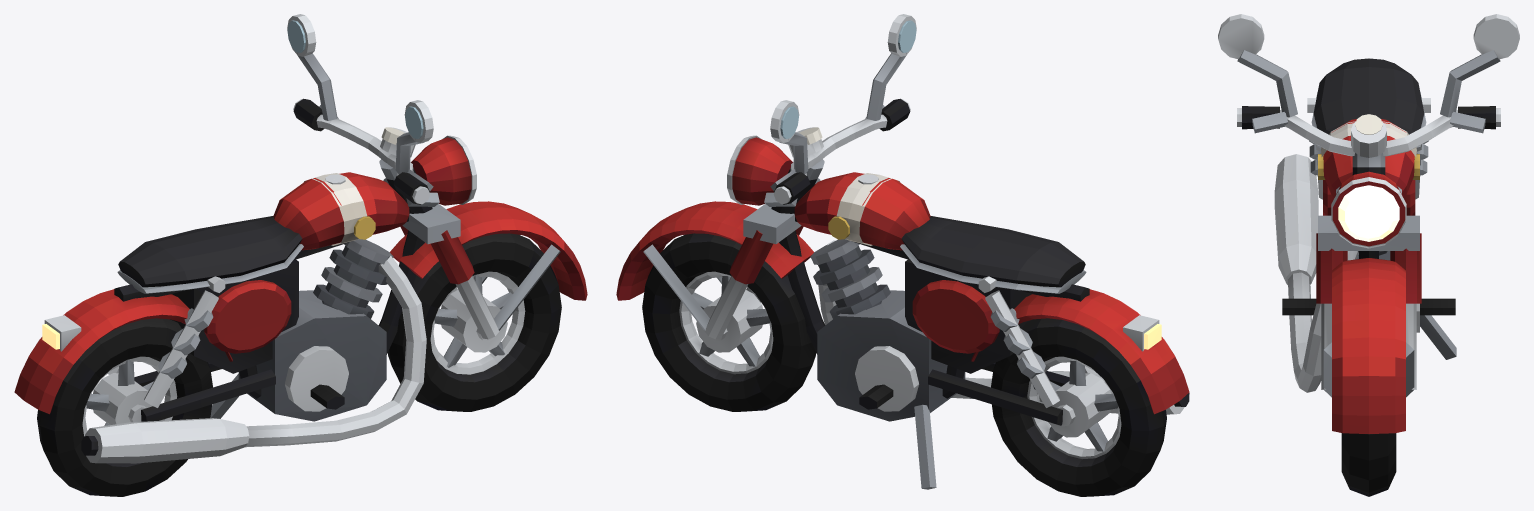
Rendered from mt_motorcycle_red.glb.
3 views of the same model, side by side, from view 1: azimuth 30°, elevation 25°; view 2: azimuth 150°, elevation 25°; view 3: azimuth 270°, elevation 25° (orthographic). The views are drawn at different scales.
Parts seen in each view (by area): view 1: base, wheelF_m, wheelR_m, bars_m; view 2: base, wheelR_m, wheelF_m, bars_m; view 3: base, bars_m, wheelF_m.
Part boxes in pixels (x1=…): base: x1=14, y1=168, x2=587, y2=463; wheelF_m: x1=388, y1=233, x2=561, y2=411; wheelR_m: x1=37, y1=318, x2=212, y2=496; bars_m: x1=287, y1=14, x2=476, y2=206; base: x1=616, y1=168, x2=1189, y2=489; wheelR_m: x1=991, y1=318, x2=1166, y2=496; wheelF_m: x1=642, y1=233, x2=815, y2=411; bars_m: x1=727, y1=14, x2=916, y2=206; base: x1=1274, y1=58, x2=1456, y2=433; bars_m: x1=1218, y1=14, x2=1519, y2=248; wheelF_m: x1=1341, y1=433, x2=1396, y2=496.
Bounding box in the file's own units: 0.8442 × 0.5487 × 0.366.
